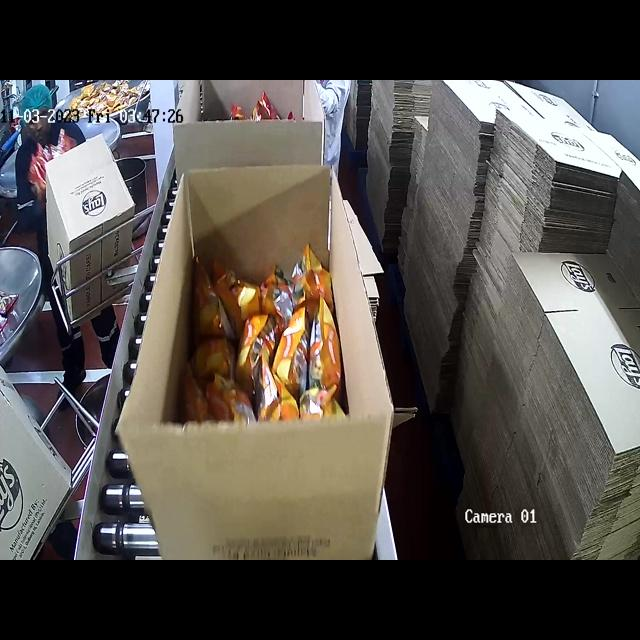cheese: (186, 267, 349, 427)
masala: (204, 96, 298, 129)
